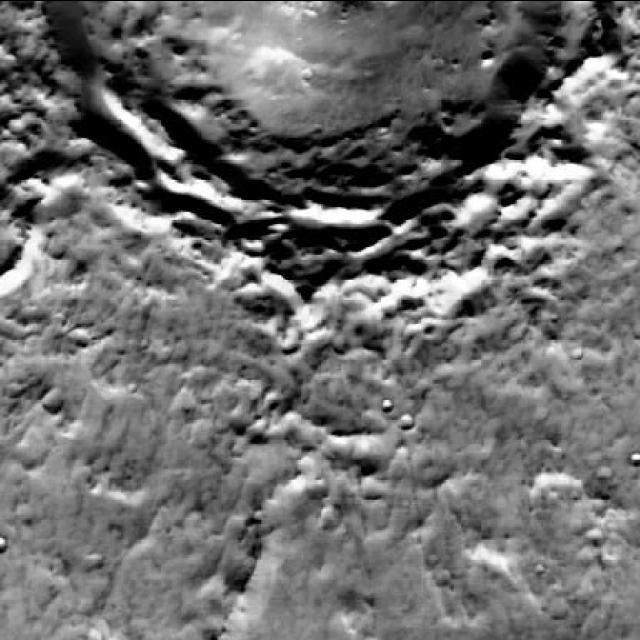crater: (8, 0, 572, 269), (35, 378, 57, 400)
